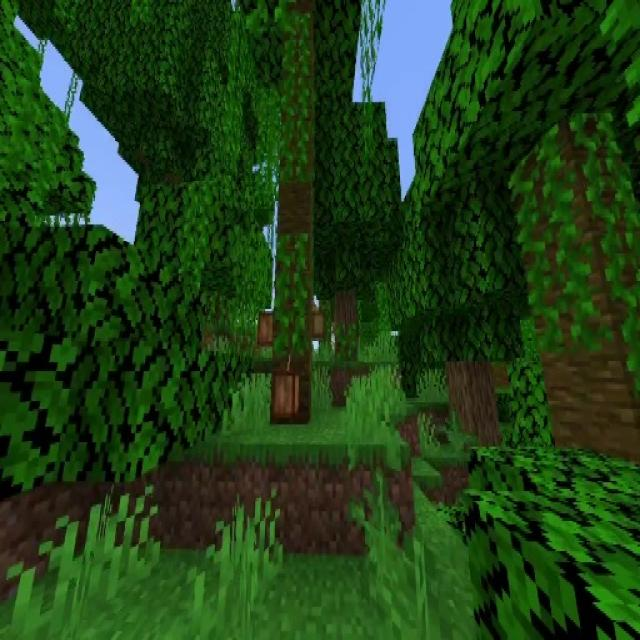jungle_log: (517, 110, 640, 452), (274, 9, 316, 423)
oak: (296, 99, 414, 364)
oak_log: (455, 352, 492, 448), (335, 294, 359, 332)
